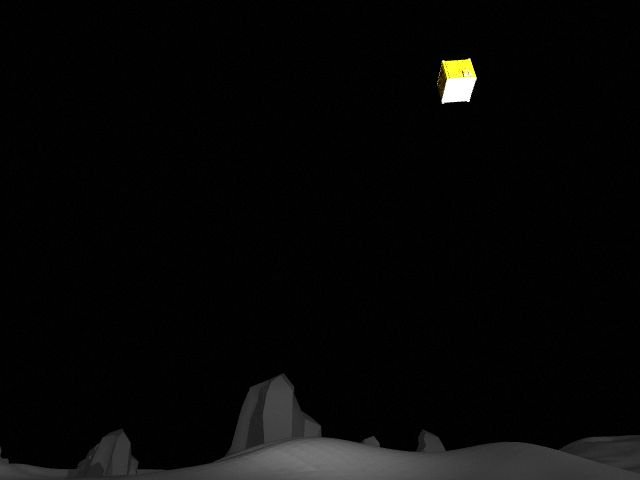cubesat: (434, 52, 481, 108)
